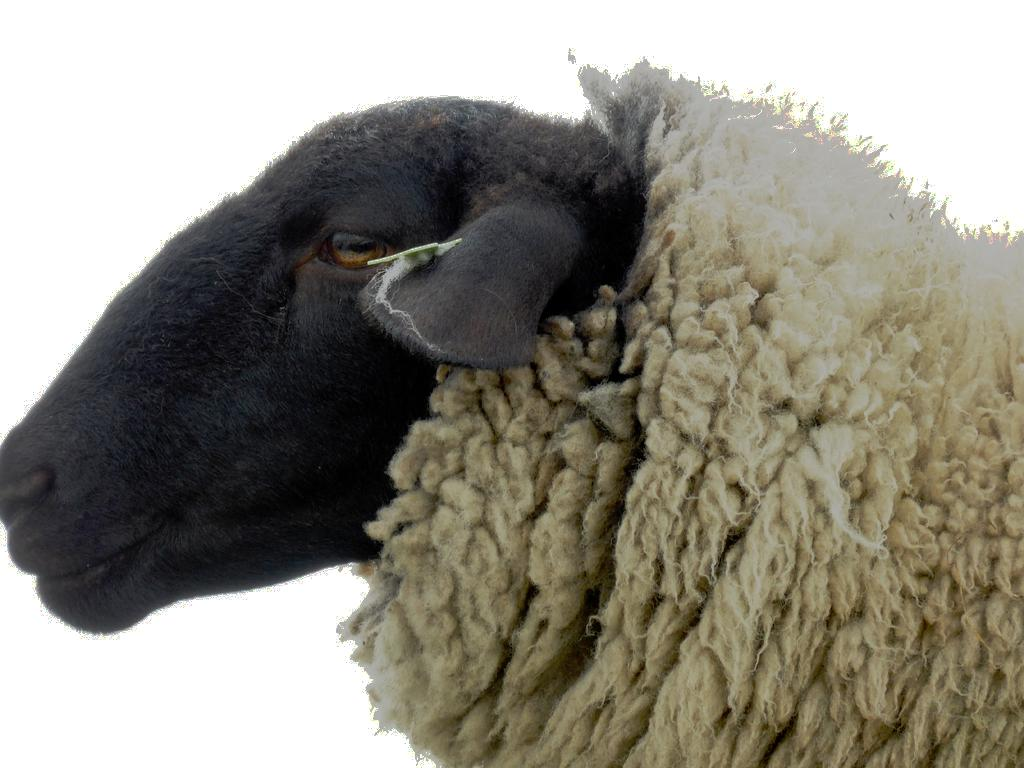Sheep: (0, 58, 1023, 768)
